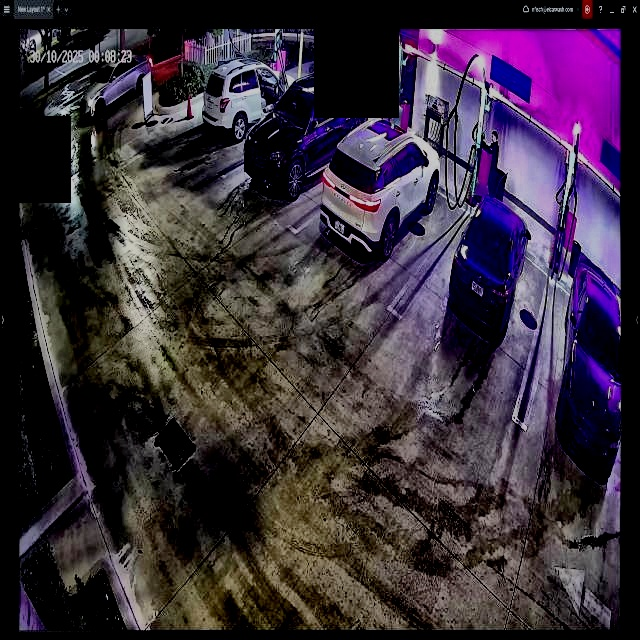Car: (319, 118, 440, 263), (243, 71, 368, 194), (451, 198, 527, 338)
